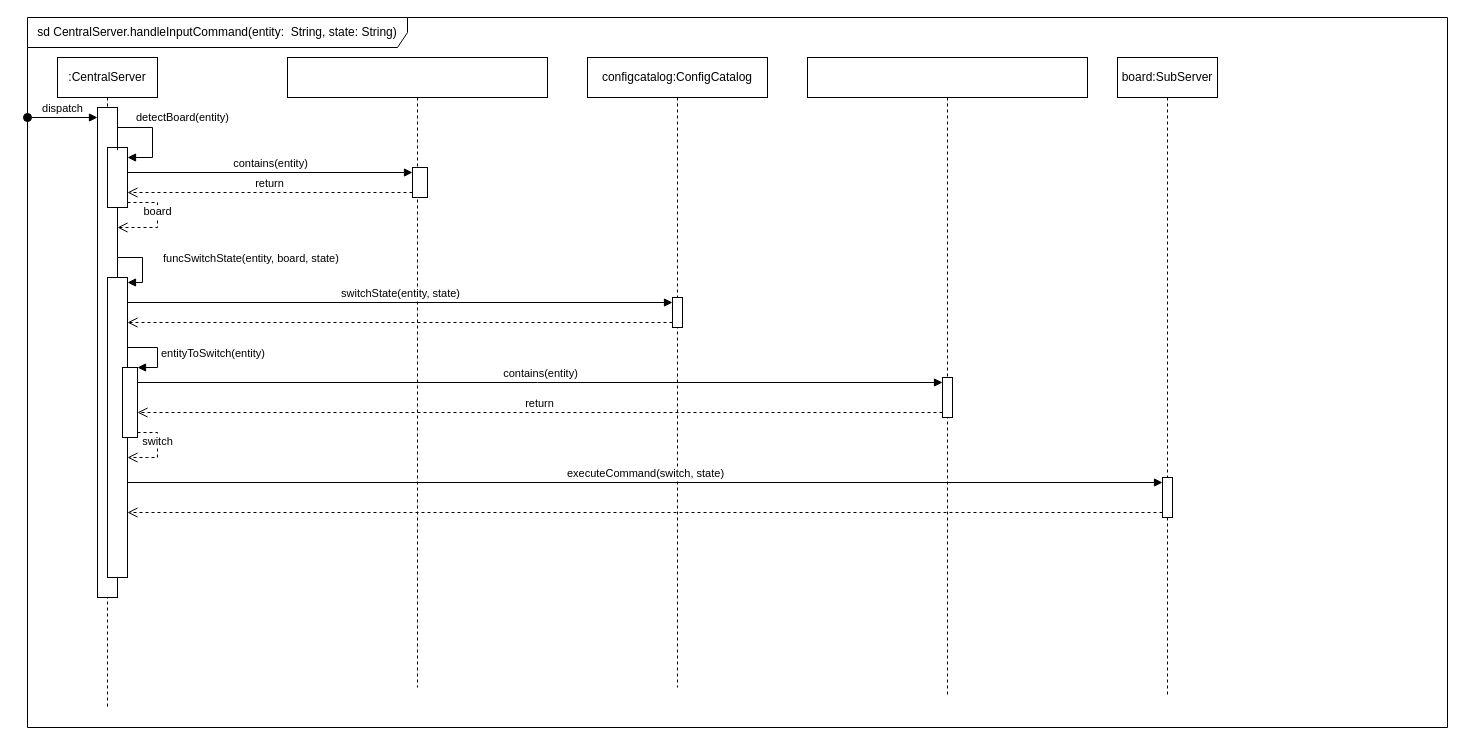
Image size: 1465x745. Some labels were removed from this diagram. The box of each missing label's shape, as (x1, y1, x2, y2) in pixels:
boardsDict :Dictionary<string, SubServer>: (286, 56, 548, 688)
switchDict :Dictionary<string, ControlSwitch>: (806, 56, 1088, 698)
